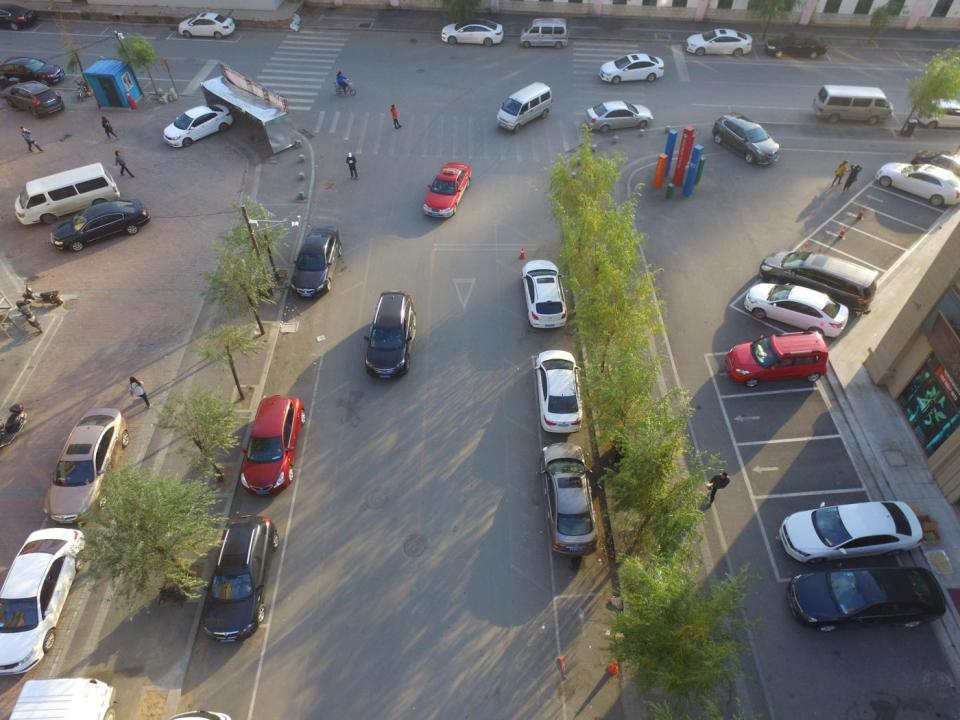car: (0, 527, 85, 676), (786, 562, 948, 633), (42, 406, 130, 527), (202, 514, 279, 644), (778, 501, 924, 565), (539, 441, 599, 556), (238, 395, 306, 496), (742, 280, 850, 340), (724, 329, 830, 388), (50, 198, 152, 253), (364, 290, 418, 380), (534, 349, 582, 435), (289, 224, 343, 299), (874, 161, 960, 207), (712, 111, 780, 166), (520, 258, 568, 330), (162, 103, 234, 149), (424, 161, 472, 218), (582, 99, 654, 134), (2, 79, 65, 119), (598, 52, 664, 85), (684, 27, 754, 57), (0, 56, 66, 87), (440, 18, 504, 47), (177, 11, 236, 40), (764, 34, 828, 60), (910, 147, 960, 179), (913, 96, 960, 130), (0, 3, 36, 31)
van: (758, 250, 880, 314), (13, 162, 121, 226), (812, 83, 895, 126), (495, 81, 553, 134), (519, 16, 569, 49)
